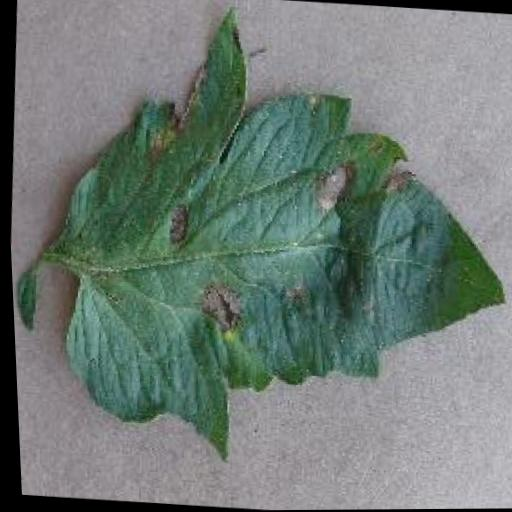Early Blight: (41, 0, 512, 470)
